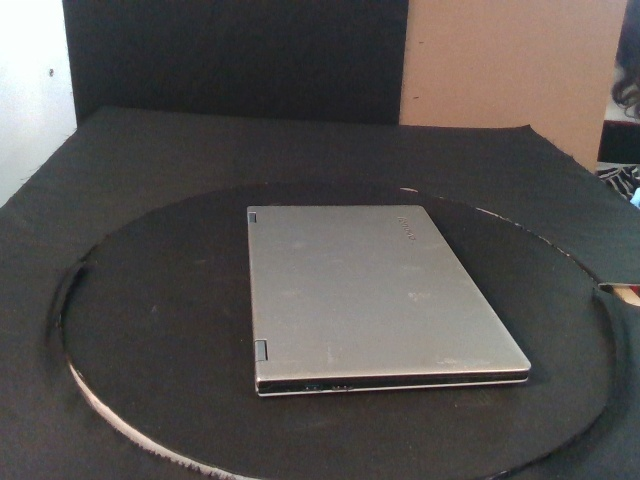laptop: (246, 204, 532, 397)
